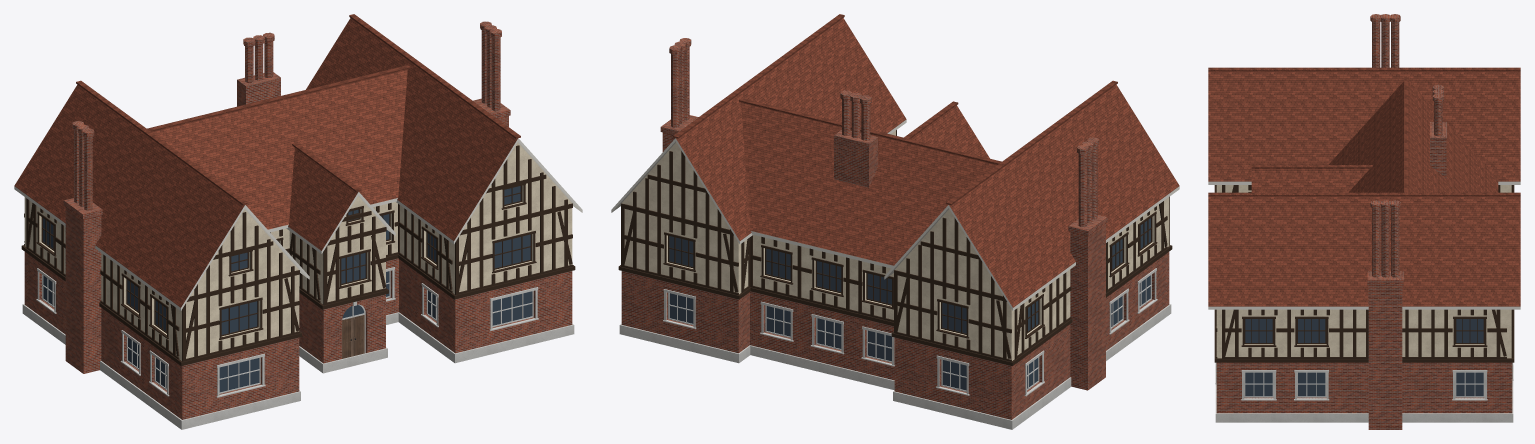
The model's file is tudor-manor.glb.
3 renders of one model, left to right at view 1: azimuth 30°, elevation 25°; view 2: azimuth 150°, elevation 25°; view 3: azimuth 270°, elevation 25°, orthographic. The views are drawn at different scales.
Visible parts, largest first — view 1: Tudor_Manor; view 2: Tudor_Manor; view 3: Tudor_Manor.
Boxes of the visible parts, x1=… form: Tudor_Manor: x1=14, y1=14, x2=582, y2=429; Tudor_Manor: x1=611, y1=14, x2=1179, y2=429; Tudor_Manor: x1=1208, y1=14, x2=1520, y2=429.
Bounding box in the file's own units: 21.92 × 12.61 × 14.8.
Materials: 11 (6 with a texture image).
